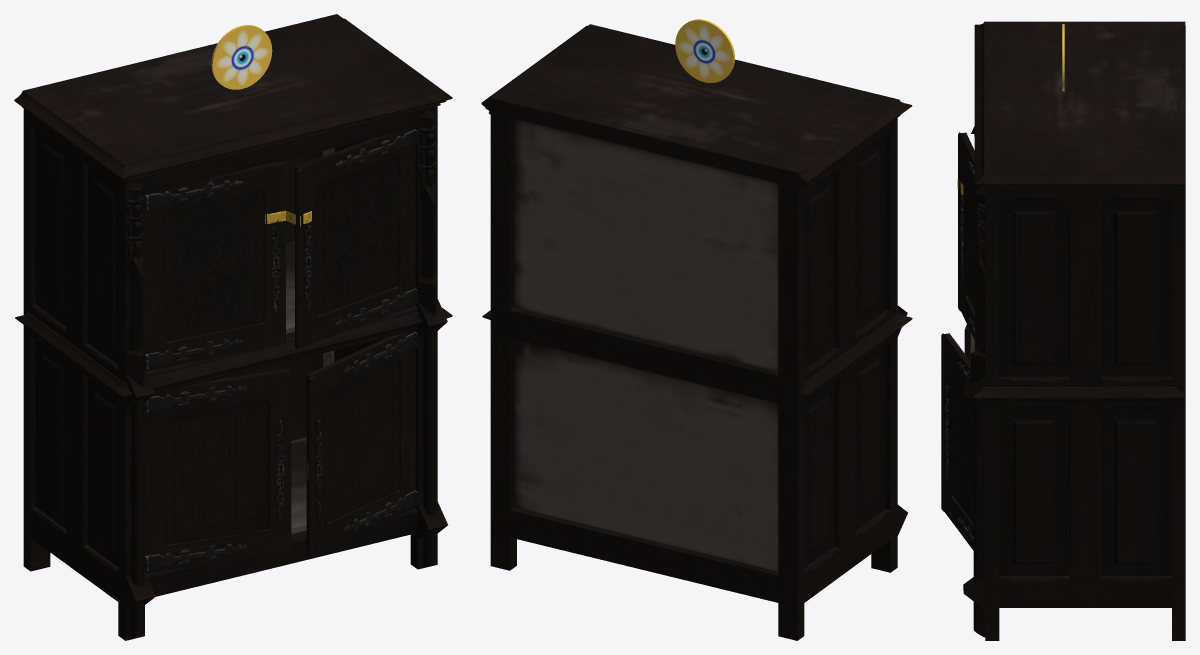
File: nyb_bramford_closet.glb
The picture shows the model from 3 angles, left to right: view 1: azimuth 30°, elevation 25°; view 2: azimuth 150°, elevation 25°; view 3: azimuth 270°, elevation 25°; orthographic projection.
Visible parts, largest first — view 1: GothicCabinet_01_cabinet, add_eyeflower_gold.png, Cylinder; view 2: GothicCabinet_01_cabinet, add_eyeflower_gold.png, Cylinder; view 3: GothicCabinet_01_cabinet.
Part boxes in pixels (x1=…): GothicCabinet_01_cabinet: x1=14, y1=14, x2=452, y2=640; add_eyeflower_gold.png: x1=214, y1=28, x2=270, y2=87; Cylinder: x1=211, y1=25, x2=272, y2=89; GothicCabinet_01_cabinet: x1=481, y1=24, x2=912, y2=640; add_eyeflower_gold.png: x1=677, y1=23, x2=731, y2=80; Cylinder: x1=675, y1=19, x2=734, y2=82; GothicCabinet_01_cabinet: x1=941, y1=21, x2=1185, y2=640.
Bounding box in the file's own units: 1.72 × 2.72 × 1.12.
Materials: 4 (3 with a texture image).
